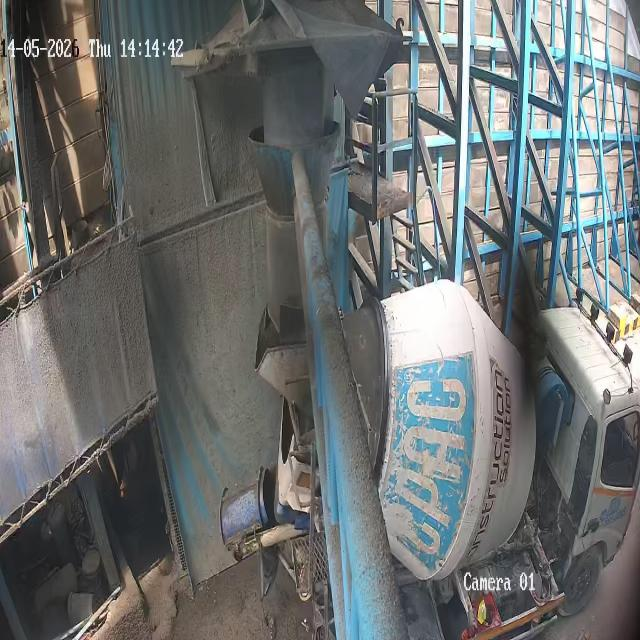cement_mixer_truck: (253, 280, 639, 639)
swing_chute: (252, 123, 339, 339)
